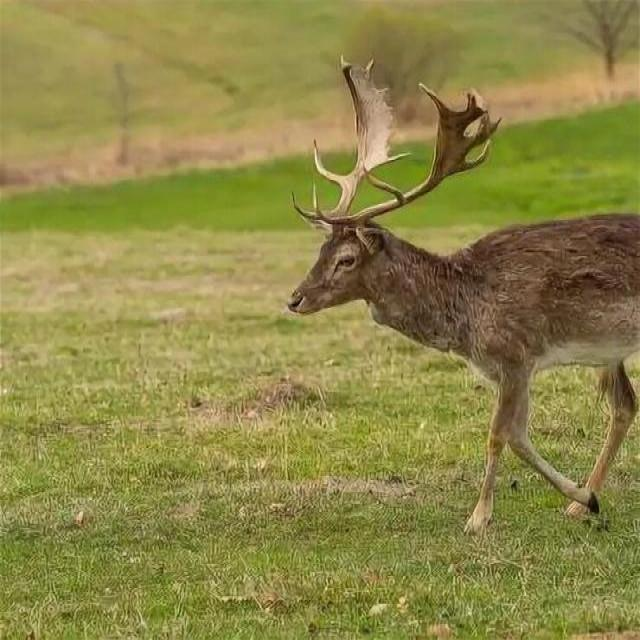deer: (235, 43, 640, 510)
